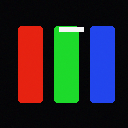3 line_h: (59, 27, 83, 31)
